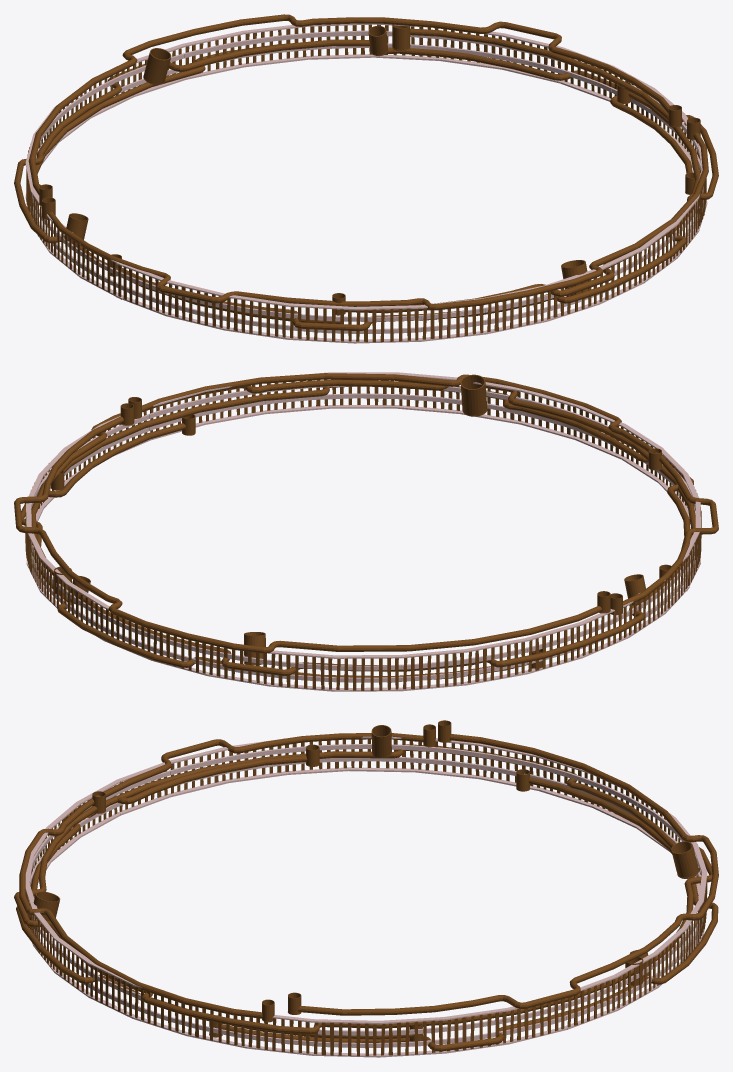
File: SM_RingOut.fbx
The picture shows the model from 3 angles, top to bottom: view 1: azimuth 30°, elevation 25°; view 2: azimuth 150°, elevation 25°; view 3: azimuth 270°, elevation 25°; orthographic projection.
Parts seen in each view (by area): view 1: Cylinder.020; view 2: Cylinder.020; view 3: Cylinder.020.
Part boxes in pixels (x1=…): Cylinder.020: x1=14, y1=14, x2=718, y2=343; Cylinder.020: x1=14, y1=372, x2=718, y2=691; Cylinder.020: x1=14, y1=720, x2=718, y2=1057.
Size of the model in its own units: 16098 by 1330 by 16257.
